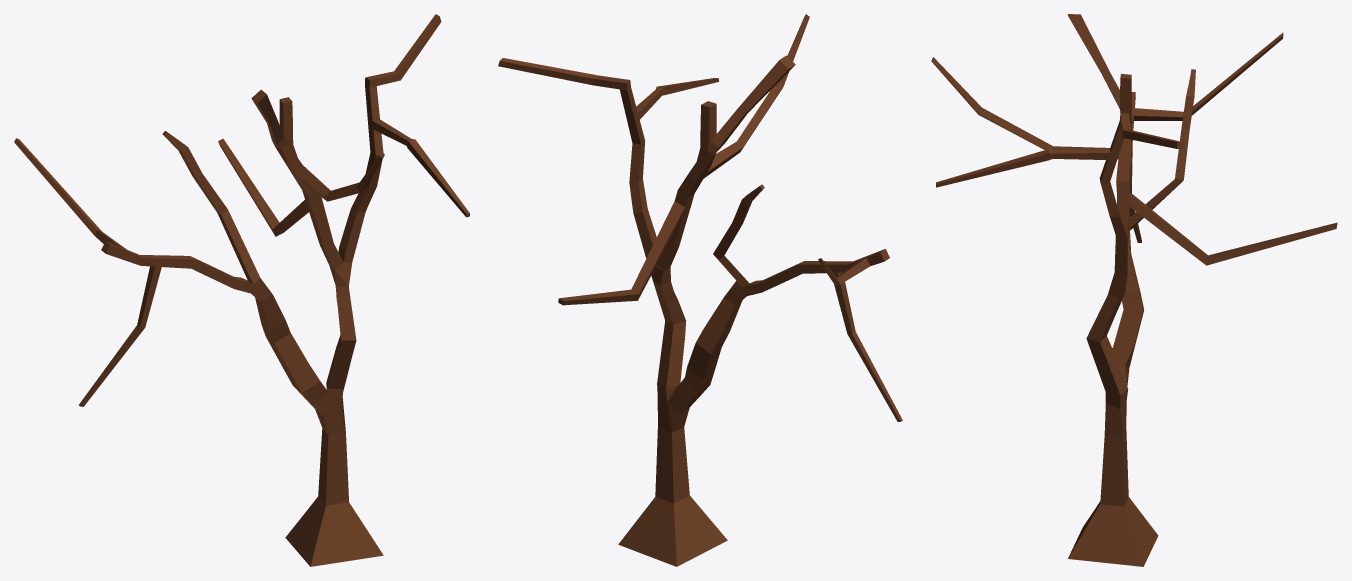
Rendered from Baum3_Einzelobjekt.fbx.
3 views of the same model, side by side, from view 1: azimuth 30°, elevation 25°; view 2: azimuth 150°, elevation 25°; view 3: azimuth 270°, elevation 25° (orthographic).
Parts seen in each view (by area): view 1: Baum.001; view 2: Baum.001; view 3: Baum.001.
Boxes of the visible parts, <box> form: Baum.001: <box>14,14,469,566</box>; Baum.001: <box>498,14,902,566</box>; Baum.001: <box>931,14,1337,566</box>.
Bounding box in the file's own units: 336 × 415 × 312.
